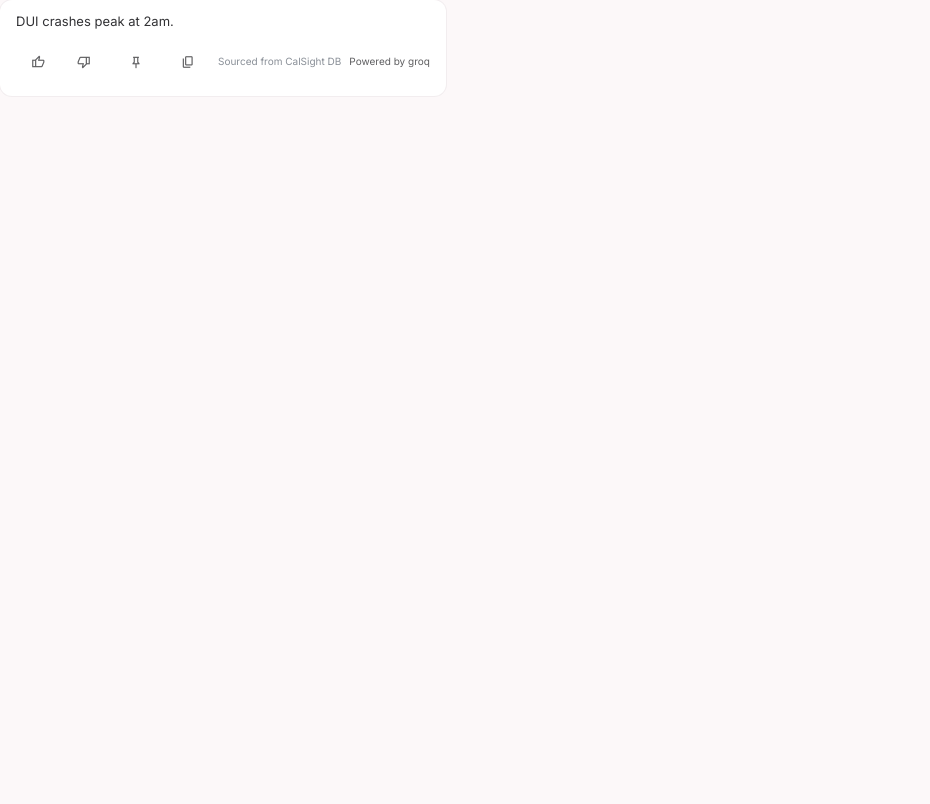
Test: ChatMessage copy button › shows an error toast when the clipboard fails
This screenshot has width=930, height=804.
Click the button named "Copy answer".
click(188, 62)  # box [166, 40, 210, 84]
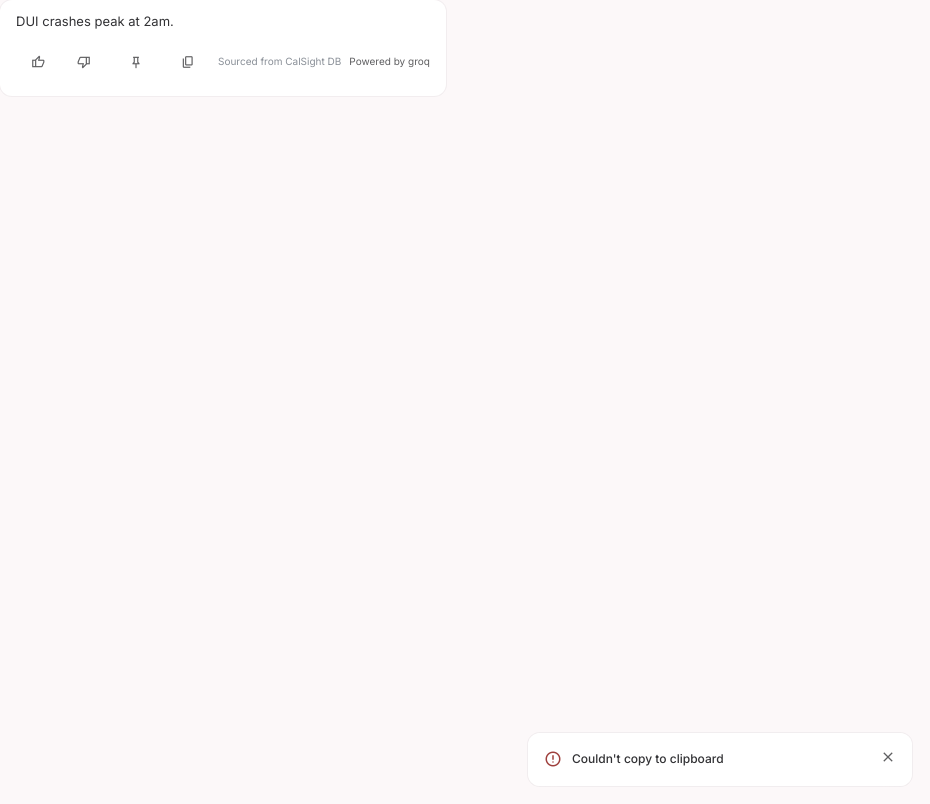
Now the text "Couldn't copy to clipboard" is shown, box [572, 751, 724, 766]
